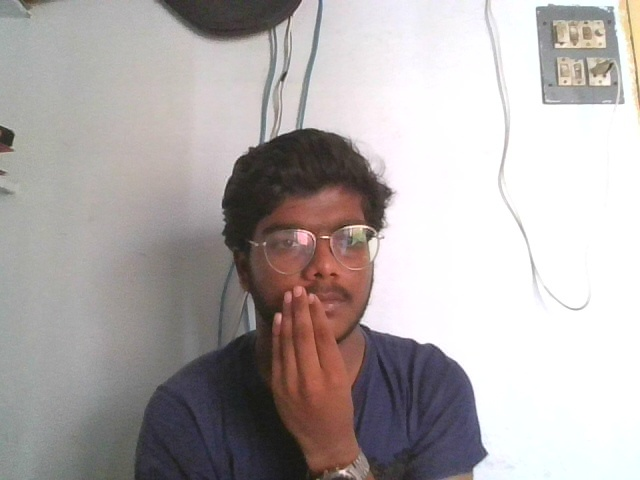Thanks: (258, 281, 359, 442)
